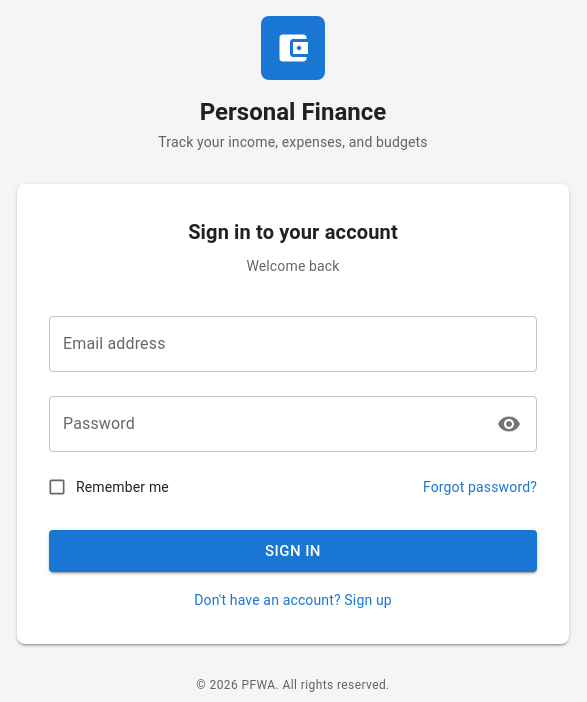
Test: LoginPage › should show validation error for invalid email format
expect the button "Sign in" is shown: met, box [49,530,537,572]
In the field labelled "Email address": (293, 344) [49,316,537,372], type "invalid-email"
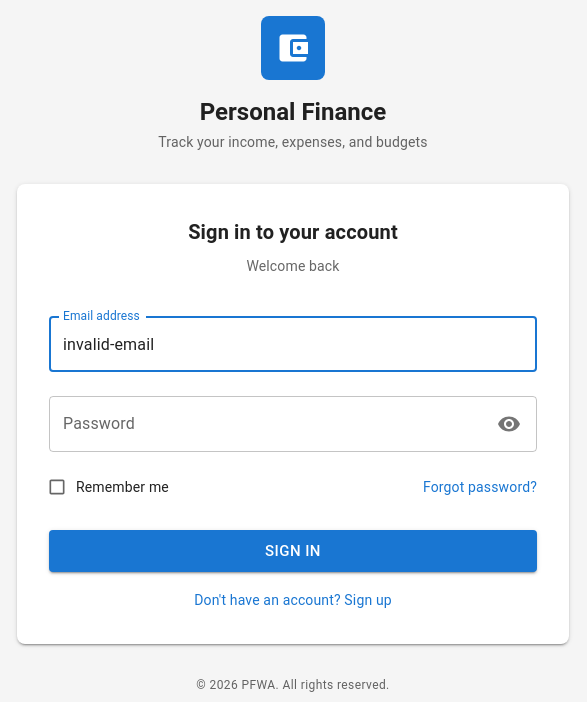
In the password field labelled "Password": (266, 424) [49,396,484,452], type "password123"
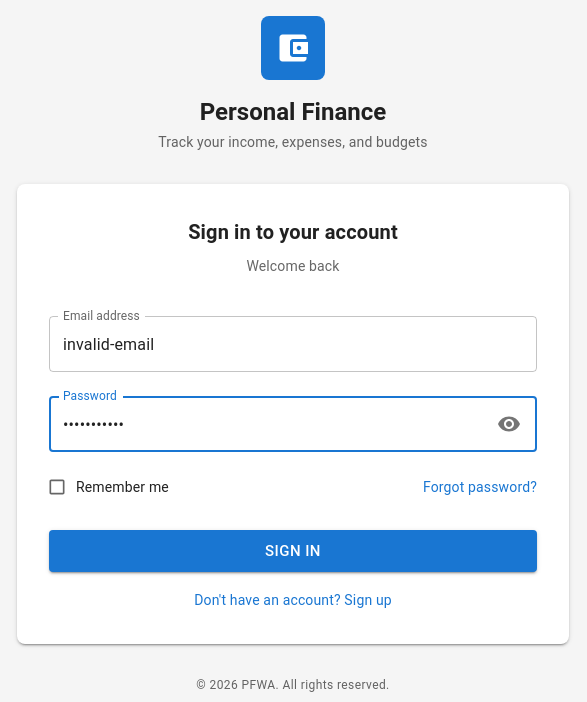
Click the button "Sign in": click(293, 551) [49,530,537,572]
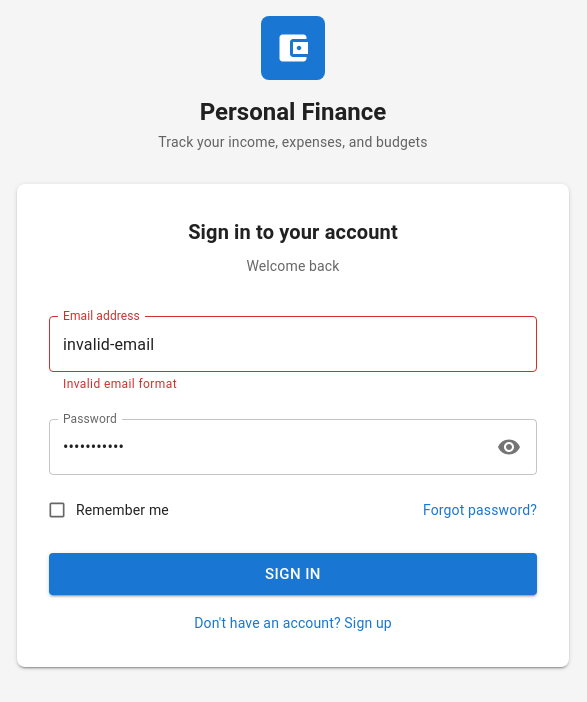
expect the text "Invalid email format" is shown: met, box [63,377,177,391]
